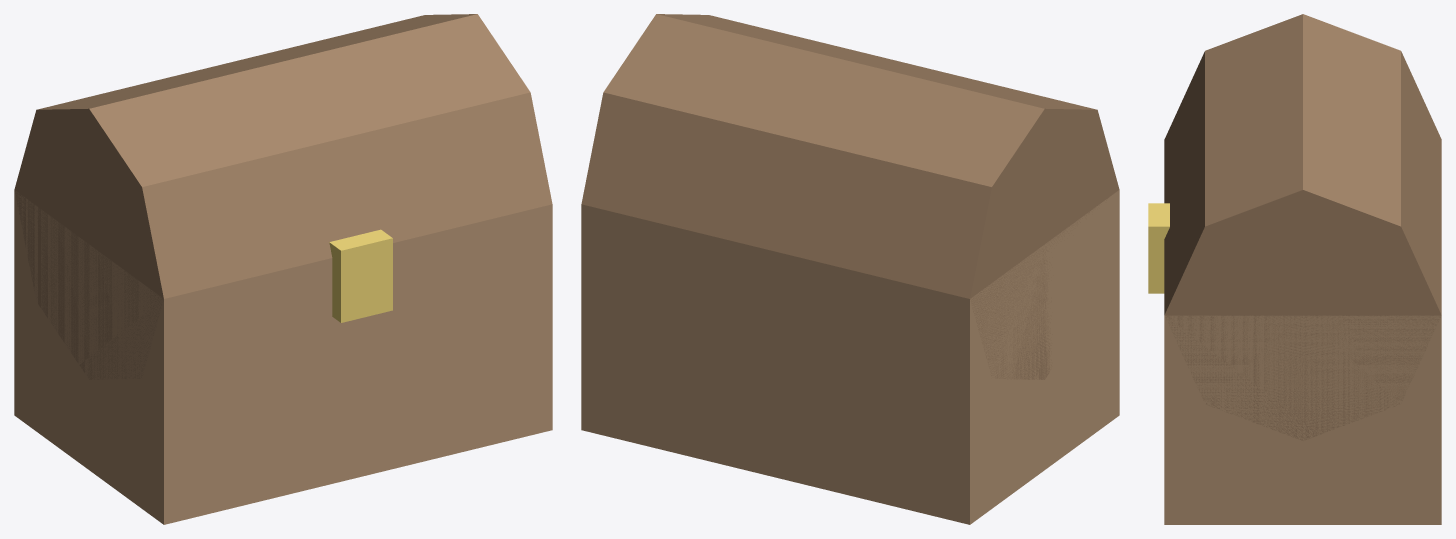
Rendered from cofre.glb.
3 renders of one model, left to right at view 1: azimuth 30°, elevation 25°; view 2: azimuth 150°, elevation 25°; view 3: azimuth 270°, elevation 25°, orthographic. The views are drawn at different scales.
Visible parts, largest first — view 1: cofre; view 2: cofre; view 3: cofre.
Boxes of the visible parts, left/top/right/bottom form: cofre: left=14, top=14, right=552, bottom=524; cofre: left=581, top=14, right=1119, bottom=524; cofre: left=1148, top=14, right=1441, bottom=524.
Size of the model in its own units: 0.9 by 0.8 by 0.635.
